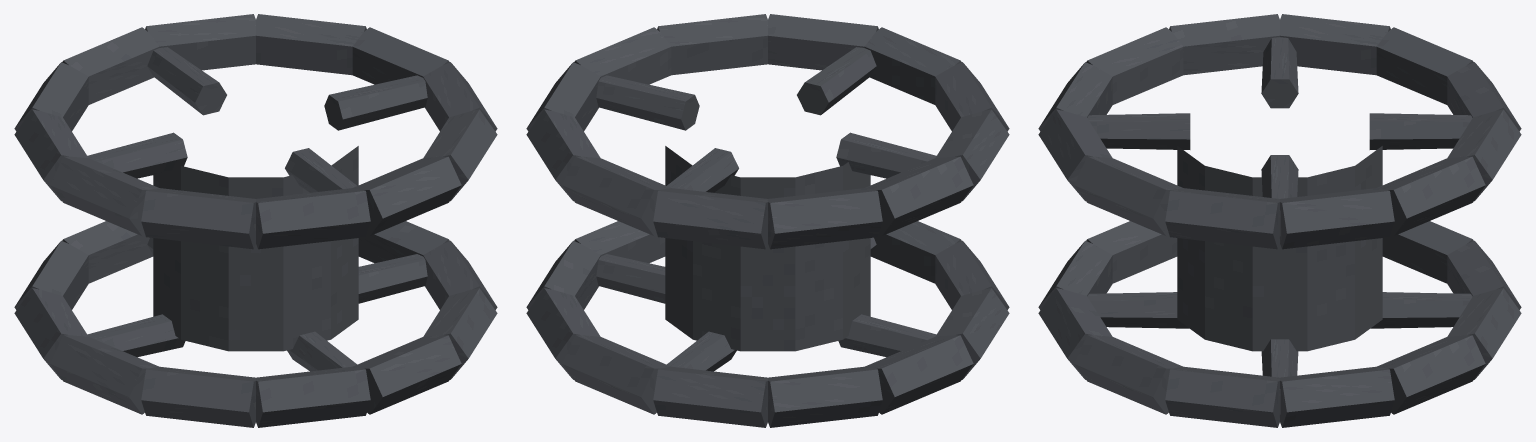
Rendered from spool_tiny.glb.
3 views of the same model, side by side, from view 1: azimuth 30°, elevation 25°; view 2: azimuth 150°, elevation 25°; view 3: azimuth 270°, elevation 25° (orthographic).
Parts seen in each view (by area): view 1: block_reel hub, block_spoke (×7), block_flange3 (×2), block_flange4 (×2), block_flange2 (×2), block_flange5 (×2), block_flange8 (×2), block_flange1 (×2), block_flange6 (×2), block_flange11 (×2), block_flange10, block_flange7 (×2) (+2 smaller); view 2: block_reel hub, block_spoke (×7), block_flange7 (×2), block_flange8 (×2), block_flange6 (×2), block_flange9 (×2), block_flange3 (×2), block_flange5 (×2), block_flange10 (×2), block_flange0 (×2), block_flange1, block_flange4 (×2) (+2 smaller); view 3: block_reel hub, block_spoke (×7), block_flange0 (×2), block_flange11 (×2), block_flange1 (×2), block_flange10 (×2), block_flange4 (×2), block_flange7 (×2), block_flange2 (×2), block_flange9 (×2), block_flange3 (×2), block_flange8 (×2) (+2 smaller).
Part boxes in pixels (x1,y1,x2,y2): block_reel hub: [153, 146, 358, 351]; block_spoke (×7): [87, 47, 427, 371]; block_flange3 (×2): [256, 188, 370, 427]; block_flange4 (×2): [141, 188, 255, 427]; block_flange2 (×2): [353, 156, 461, 414]; block_flange5 (×2): [50, 156, 158, 414]; block_flange8 (×2): [62, 27, 159, 283]; block_flange1 (×2): [423, 109, 497, 379]; block_flange6 (×2): [14, 109, 88, 379]; block_flange11 (×2): [352, 27, 449, 263]; block_flange10: [256, 14, 366, 75]; block_flange7 (×2): [14, 62, 88, 309]; block_reel hub: [665, 146, 870, 351]; block_spoke (×7): [596, 47, 936, 371]; block_flange7 (×2): [768, 188, 882, 427]; block_flange8 (×2): [653, 188, 767, 427]; block_flange6 (×2): [865, 156, 973, 414]; block_flange9 (×2): [562, 156, 670, 414]; block_flange3 (×2): [864, 27, 961, 283]; block_flange5 (×2): [935, 109, 1009, 379]; block_flange10 (×2): [526, 109, 600, 379]; block_flange0 (×2): [574, 27, 671, 263]; block_flange1: [657, 14, 767, 75]; block_flange4 (×2): [935, 62, 1009, 309]; block_reel hub: [1177, 146, 1382, 351]; block_spoke (×7): [1087, 37, 1472, 414]; block_flange0 (×2): [1165, 188, 1279, 427]; block_flange11 (×2): [1280, 188, 1394, 427]; block_flange1 (×2): [1074, 156, 1182, 414]; block_flange10 (×2): [1377, 156, 1485, 414]; block_flange4 (×2): [1086, 27, 1183, 283]; block_flange7 (×2): [1376, 27, 1473, 283]; block_flange2 (×2): [1038, 109, 1112, 379]; block_flange9 (×2): [1447, 109, 1521, 379]; block_flange3 (×2): [1038, 62, 1112, 309]; block_flange8 (×2): [1447, 62, 1521, 309].
Size of the model in its own units: 0.031 by 0.0159 by 0.031.
1 material, 1 textured.
